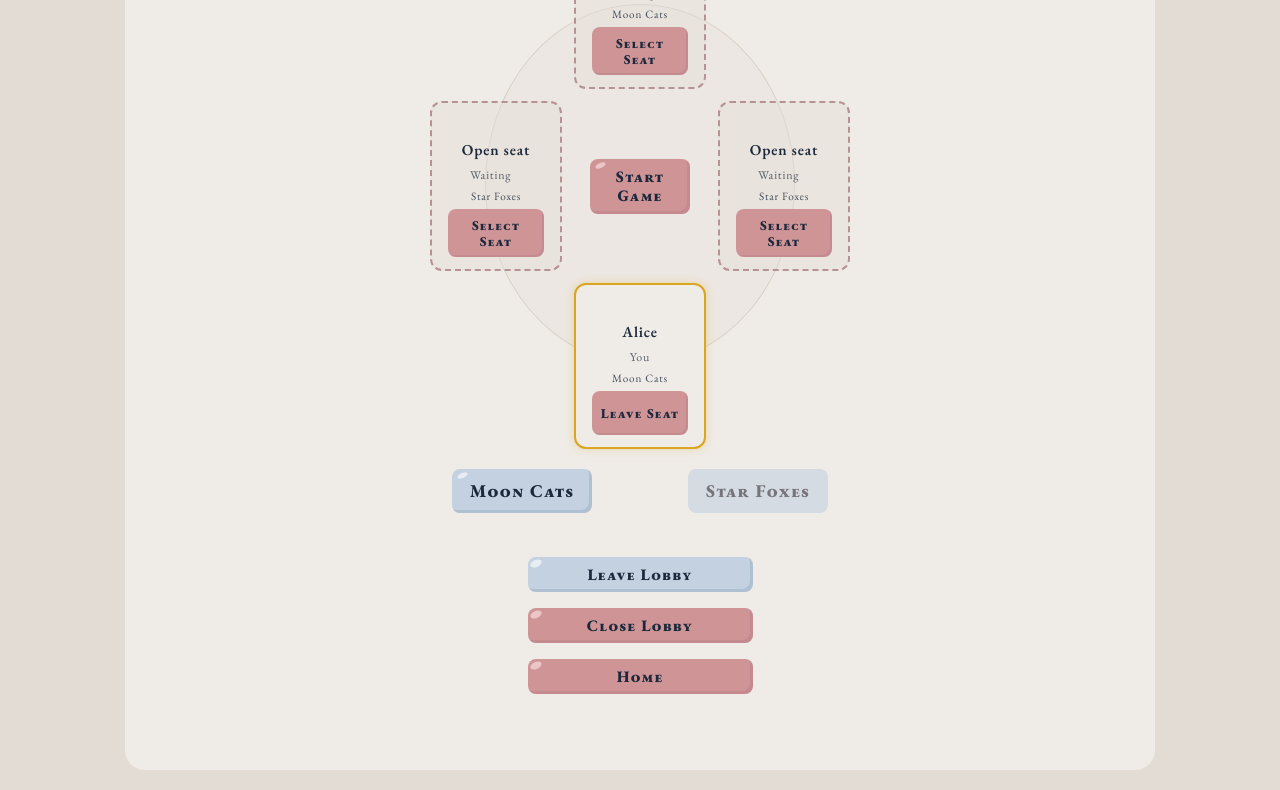
discards a mobile name draft on Cancel or Escape without saving
(page scrolled)
Step 1. Click the button with aria-label "Edit Team 1 name" → (522, 491), box top-left (452, 469), bottom-right (592, 513)
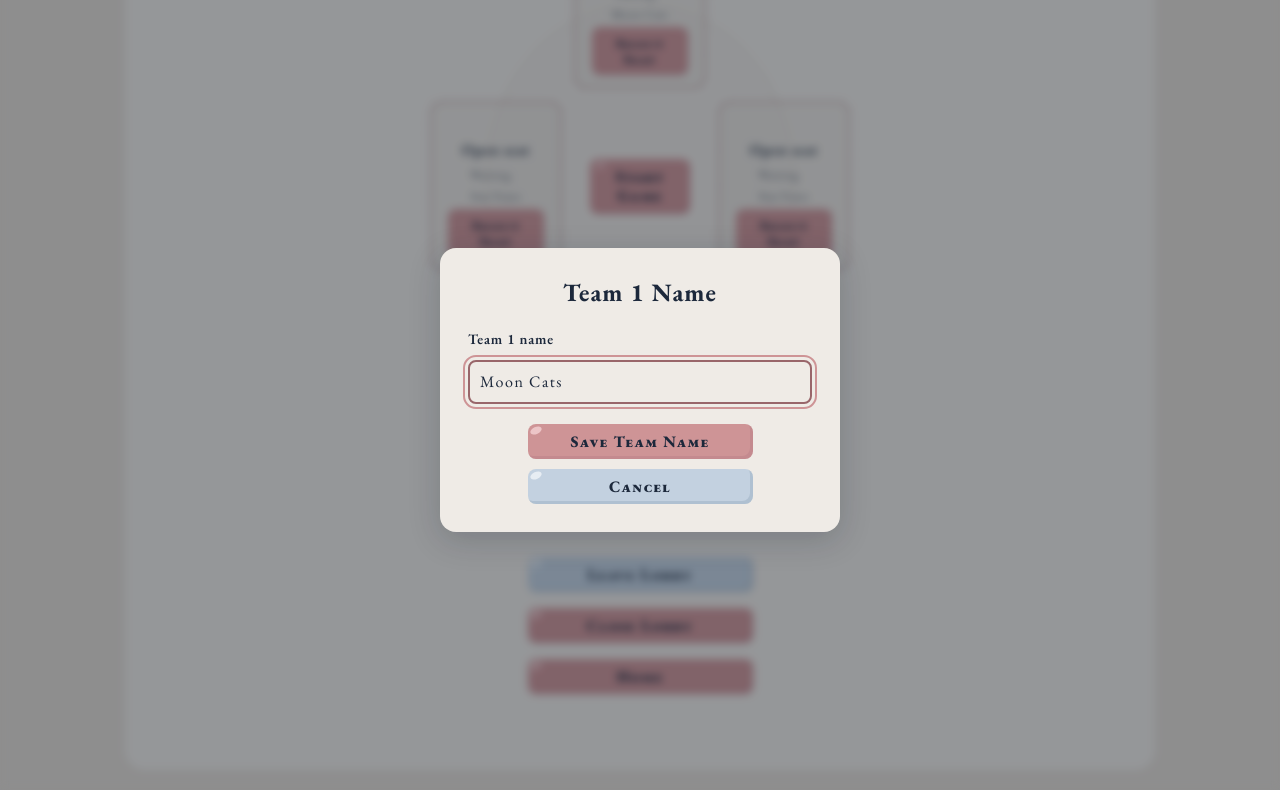
Step 2. Replace the text in the field labelled "Team 1 name" with "Sun Cats" → (640, 382), box top-left (468, 360), bottom-right (812, 404)
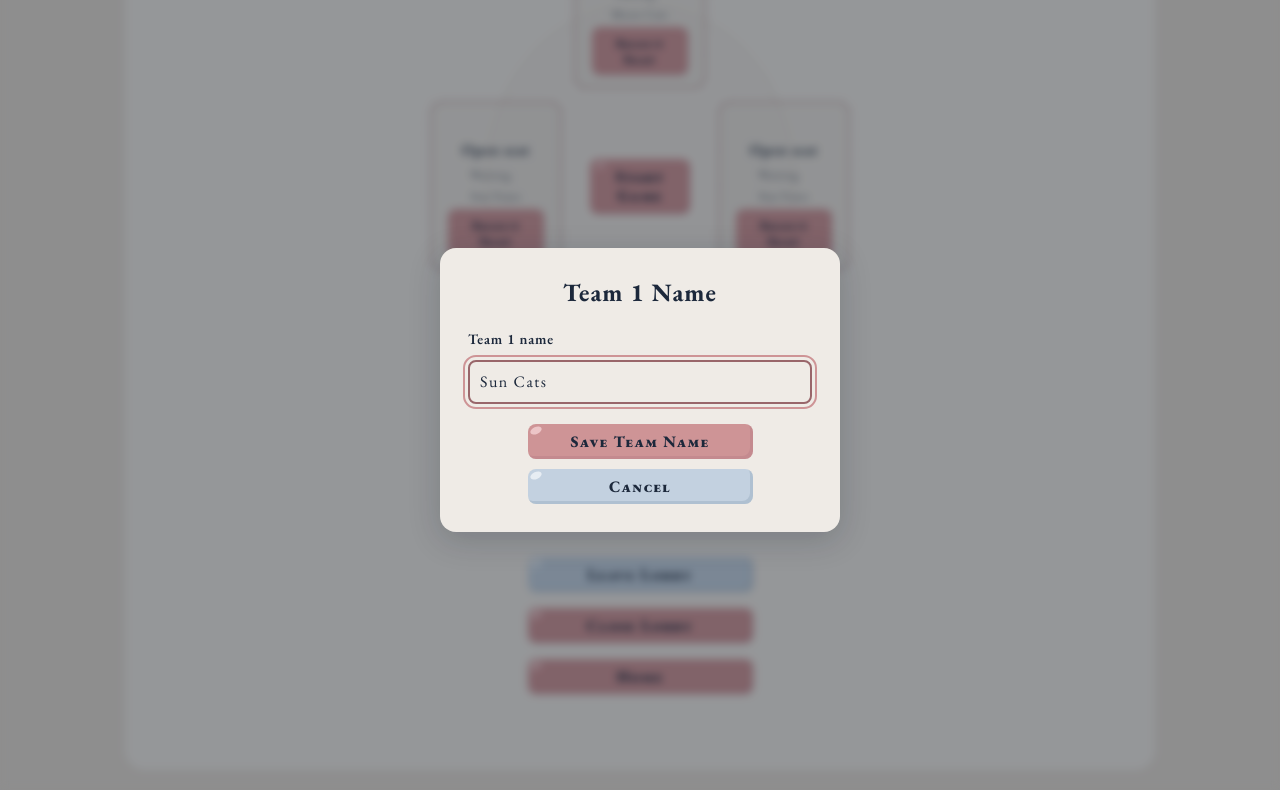
Step 3. Click the button "Cancel" → (640, 486), box top-left (528, 469), bottom-right (752, 504)
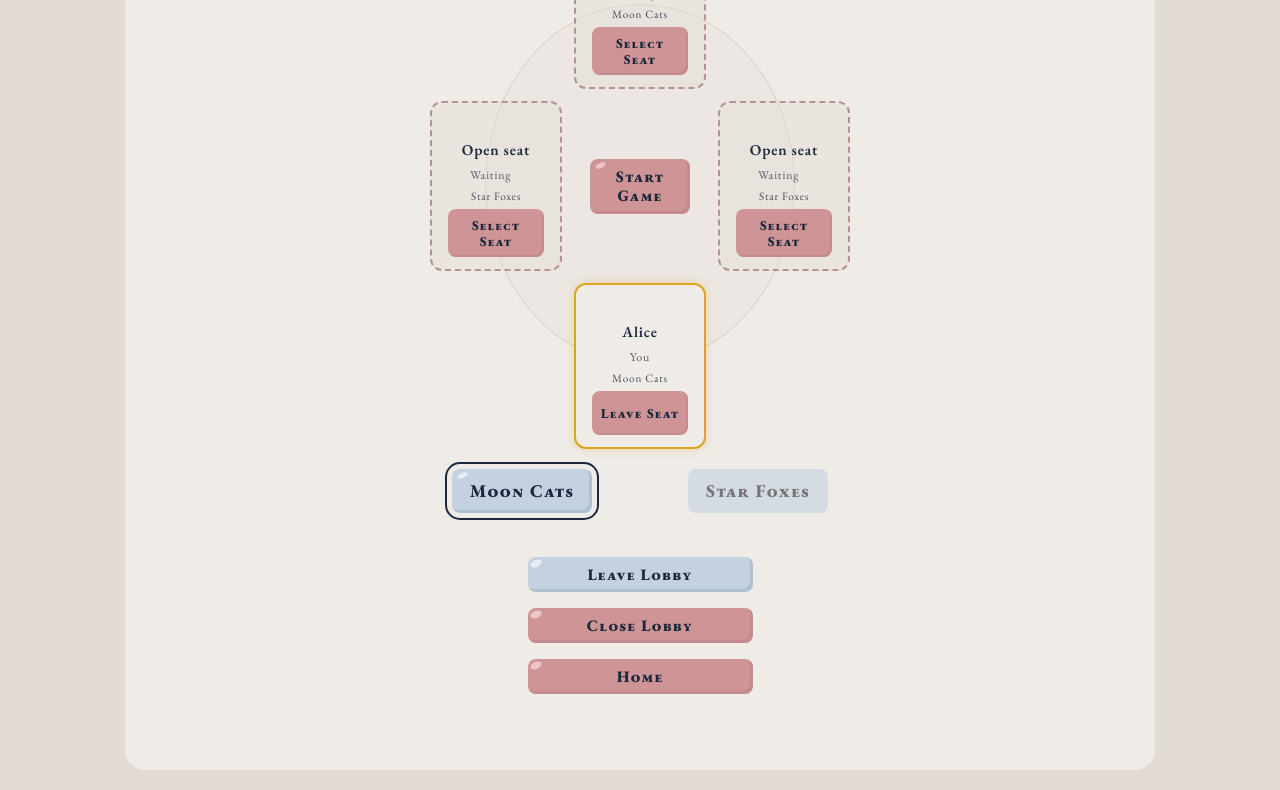
Check: the dialog is gone
Step 4. Click the button with aria-label "Edit Team 1 name" → (522, 491), box top-left (452, 469), bottom-right (592, 513)
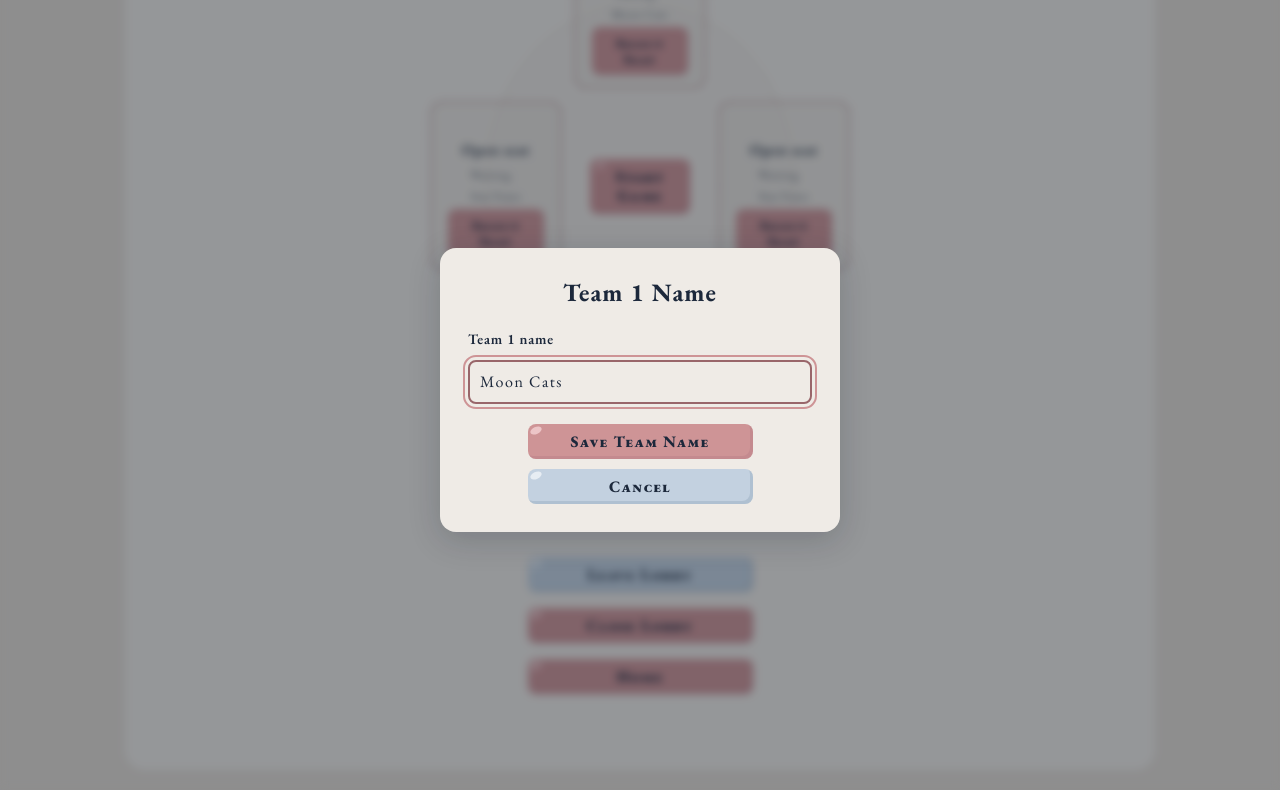
Check: the field labelled "Team 1 name" holds "Moon Cats", box top-left (468, 360), bottom-right (812, 404)
Step 5. Press Escape
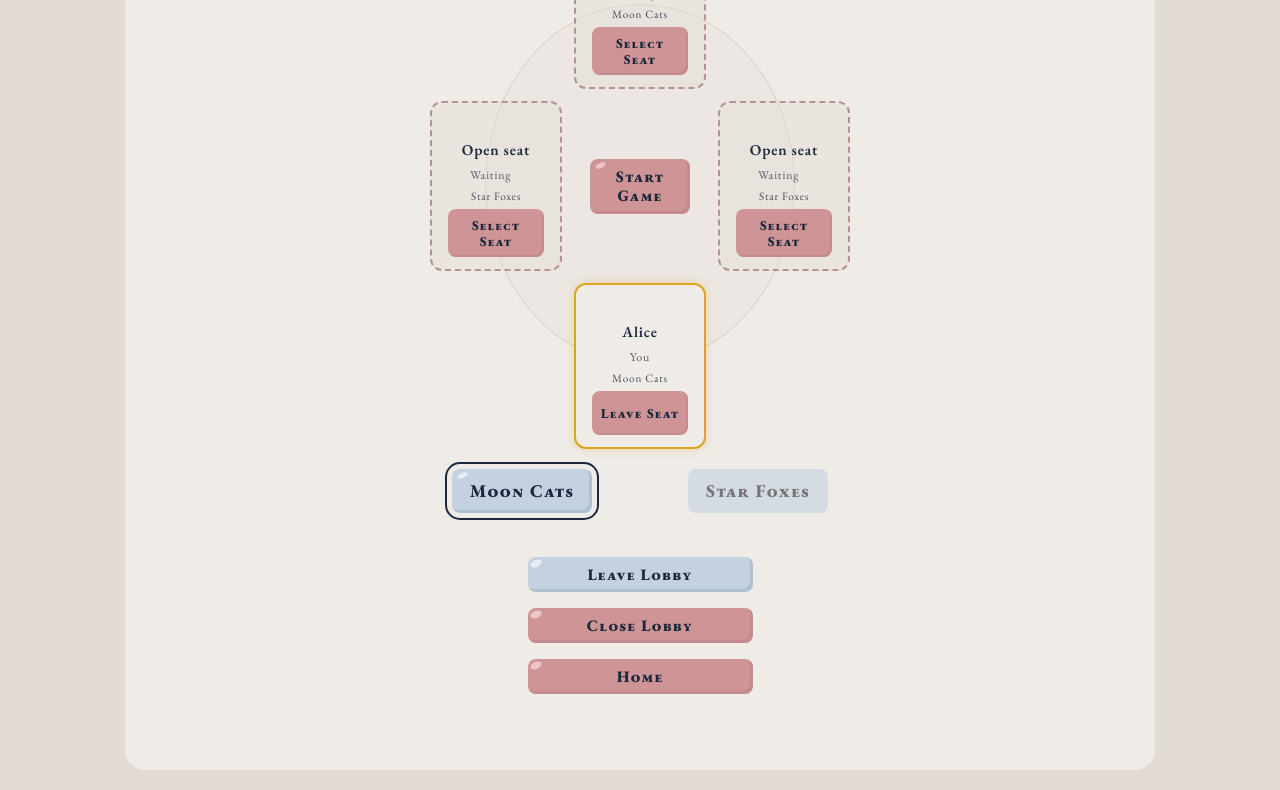
Check: the dialog is gone
